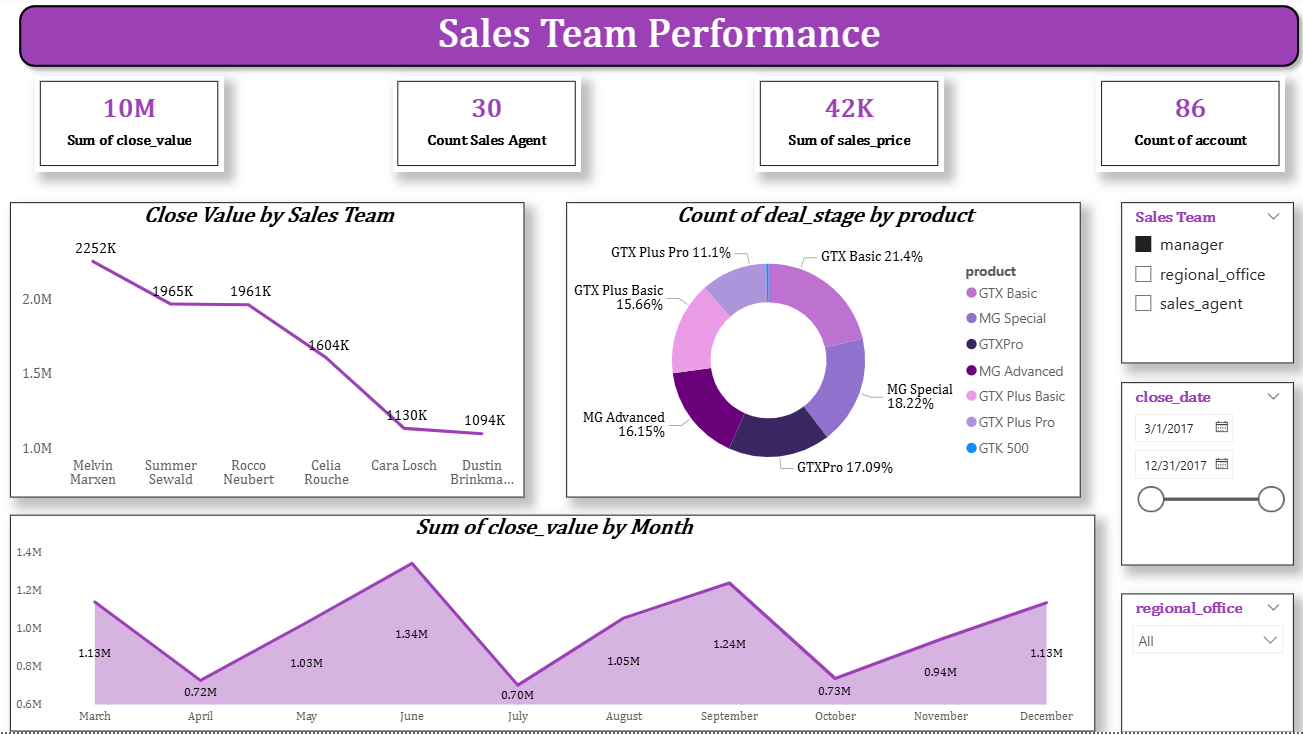

Layout of this report page (visuals, bound fields, positions):
{"tool":"powerbi","page":{"name":"Sales Team","canvas":[1280,720],"ordinal":0},"visuals":[{"type":"shape","box":[10,0,1270,78.2],"z":0},{"type":"slicer","fields":{"Values":["Sales Team.Sales Team"]},"box":[1096.9,201.8,168.8,157.7],"z":1000},{"type":"lineChart","title":"Close Value by Sales Team","fields":{"Category":["sales_teams.manager"],"Y":["sales_pipeline.close_value"]},"box":[10.1,202,503.5,288.6],"z":2000},{"type":"stackedAreaChart","fields":{"Category":["sales_pipeline.close_date.Variation.Date Hierarchy.Year","sales_pipeline.close_date.Variation.Date Hierarchy.Quarter","sales_pipeline.close_date.Variation.Date Hierarchy.Month","sales_pipeline.close_date.Variation.Date Hierarchy.Day"],"Y":["sales_pipeline.close_value"]},"box":[10.1,507.9,1061.9,212.1],"z":3000},{"type":"slicer","fields":{"Values":["sales_pipeline.close_date"]},"box":[1096.5,378,168.8,178.9],"z":4000},{"type":"cardVisual","fields":{"Data":["Sales Team.Count Sales Agent"]},"box":[383.8,77.9,184.7,93.8],"z":5000},{"type":"cardVisual","fields":{"Data":["sales_pipeline.close_value"]},"box":[34.6,77.9,184.7,93.8],"z":6000},{"type":"cardVisual","fields":{"Data":["sales_pipeline.account"]},"box":[1072,77.9,184.7,93.8],"z":7000},{"type":"cardVisual","fields":{"Data":["products.sales_price"]},"box":[738.7,77.9,184.7,93.8],"z":8000},{"type":"slicer","fields":{"Values":["sales_teams.regional_office"]},"box":[1096.5,584.3,168.8,135.6],"z":9000},{"type":"donutChart","fields":{"Y":["sales_pipeline.deal_stage"],"Category":["sales_pipeline.product"]},"box":[554,202,503.5,288.6],"z":10000}]}

Visuals, with their boxes in screenshot pixels (x1, y1, x2, y2), scaled from the page's 1280x720 canvas onto the 1303x735 screenshot:
shape: [left=10, top=0, right=1302, bottom=80]
slicer - Sales Team.Sales Team: [left=1117, top=206, right=1288, bottom=367]
"Close Value by Sales Team" lineChart: [left=10, top=206, right=523, bottom=501]
stackedAreaChart - sales_pipeline.close_date.Variation.Date Hierarchy.Year x sales_pipeline.close_date.Variation.Date Hierarchy.Quarter: [left=10, top=518, right=1091, bottom=734]
slicer - sales_pipeline.close_date: [left=1116, top=386, right=1288, bottom=569]
cardVisual - Sales Team.Count Sales Agent: [left=391, top=80, right=579, bottom=175]
cardVisual - sales_pipeline.close_value: [left=35, top=80, right=223, bottom=175]
cardVisual - sales_pipeline.account: [left=1091, top=80, right=1279, bottom=175]
cardVisual - products.sales_price: [left=752, top=80, right=940, bottom=175]
slicer - sales_teams.regional_office: [left=1116, top=596, right=1288, bottom=734]
donutChart - sales_pipeline.deal_stage x sales_pipeline.product: [left=564, top=206, right=1077, bottom=501]
